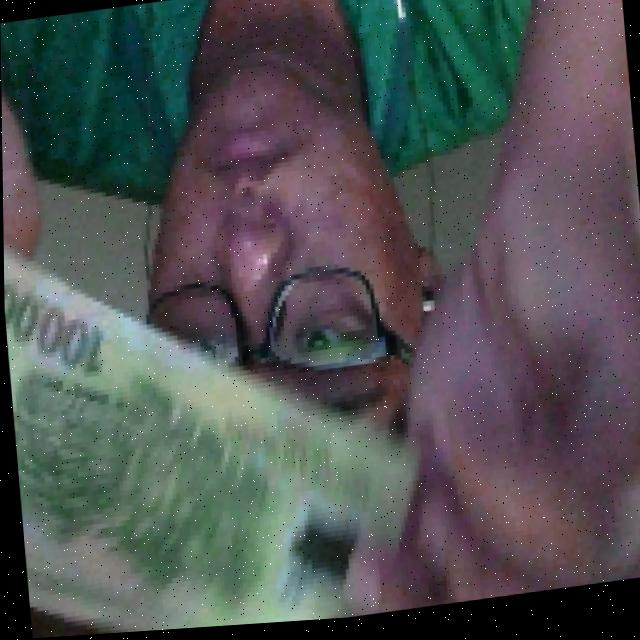100 000 VND: (2, 154, 434, 640)
